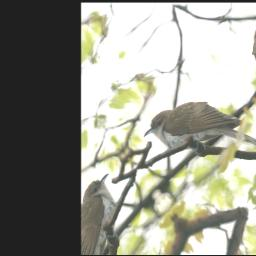Cuckoo: (140, 61, 256, 220)
